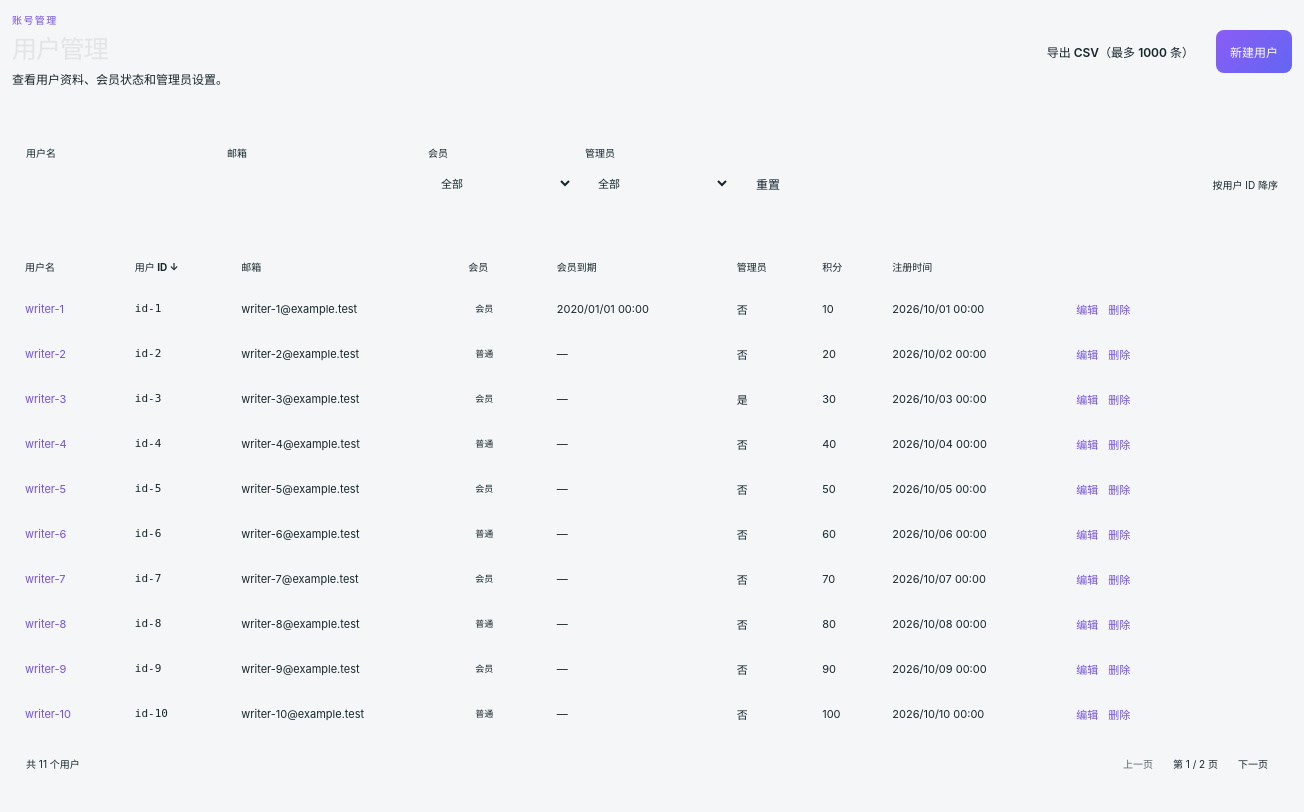
Scenario: admin users views › falls back to the preceding page when deleting the last row on the final page
The image size is (1304, 812).
Check: the button "writer-1" is shown, box 25,302 -> 64,316
Click the button "下一页": (1253, 763) 1228,748 -> 1278,778
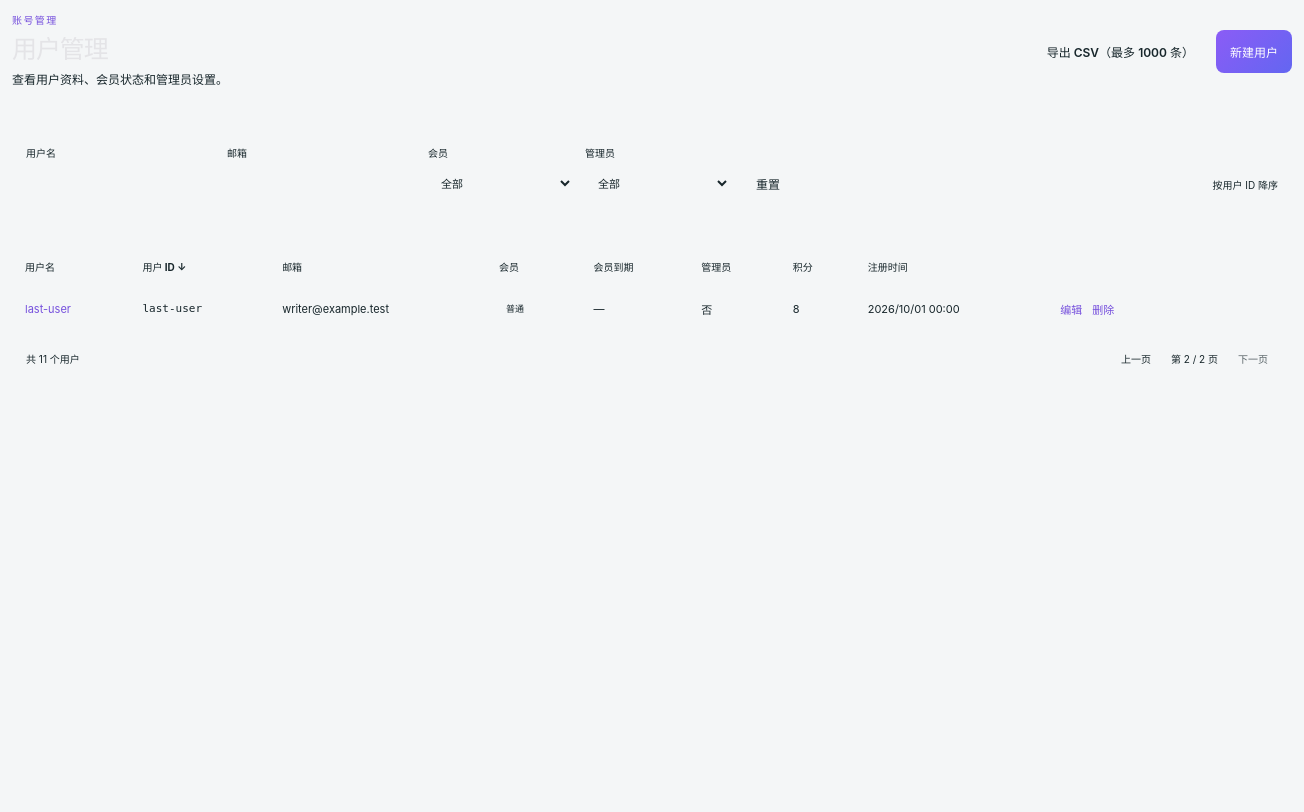
Check: the button "last-user" is shown, box 25,302 -> 71,316
Click the button with aria-label "删除用户 last-user": (1103, 309) 1092,301 -> 1114,317
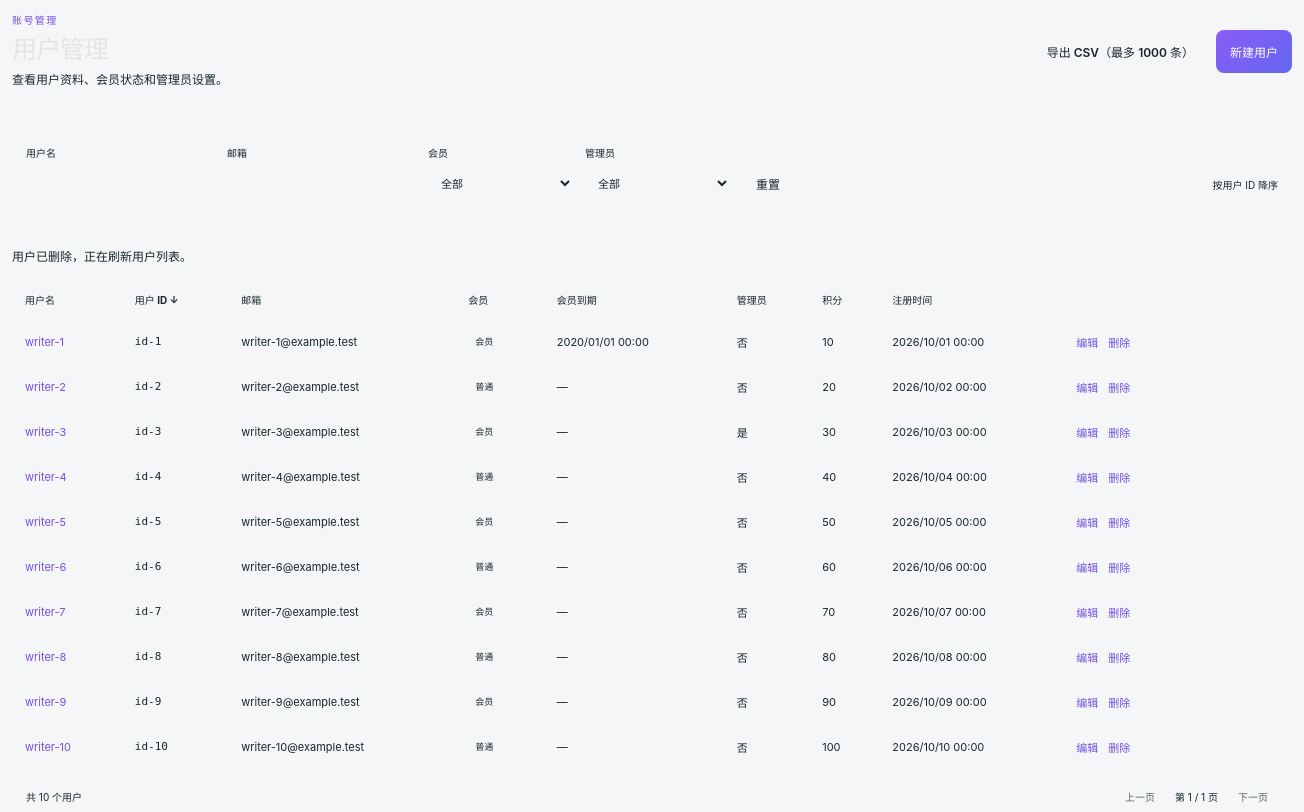
Check: the text "第 1 / 1 页" is shown, box 1175,789 -> 1218,804
